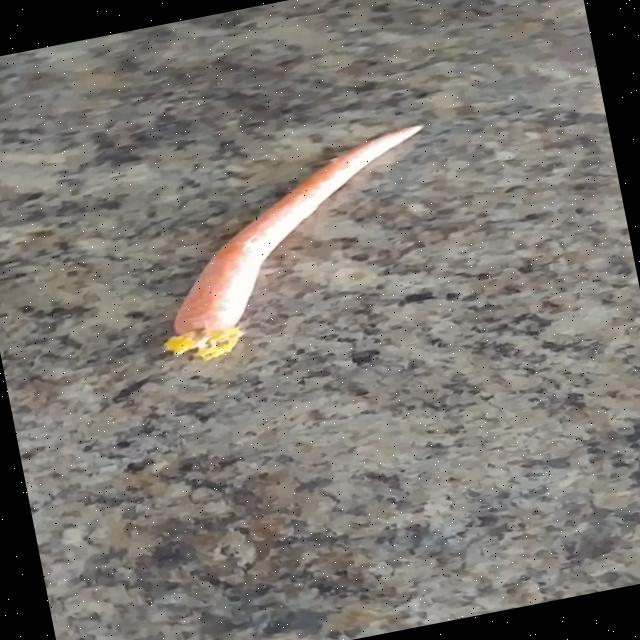carrot: (164, 125, 422, 360)
